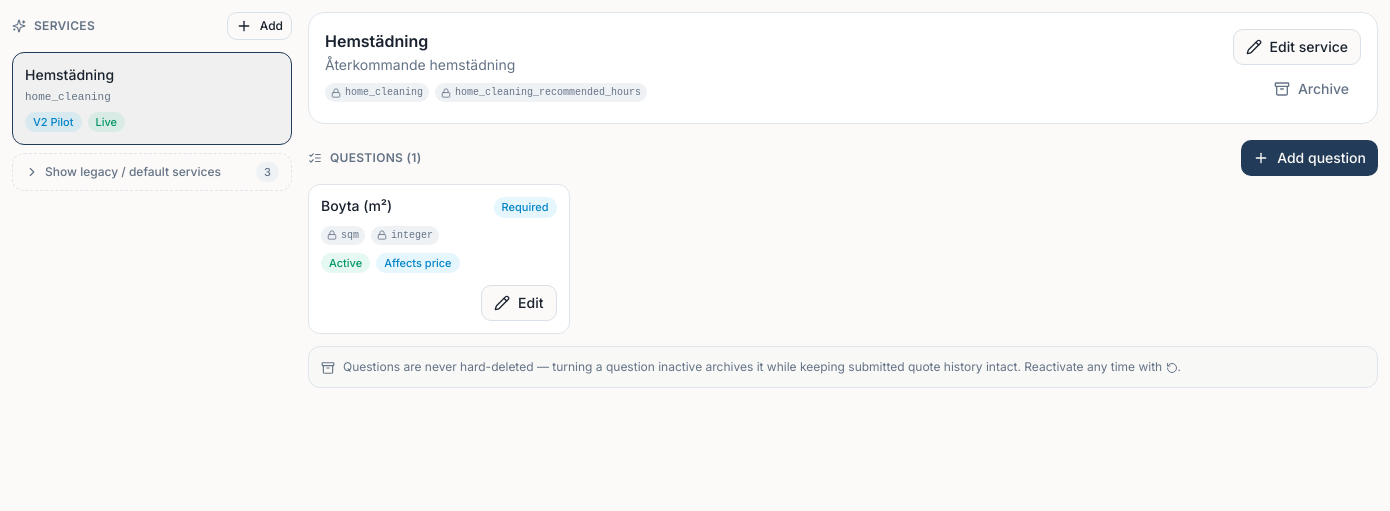
Test: ServicesFieldsEditor — GPM-2a legacy reveal + badges › reveals the seeded legacy services when the toggle is expanded
What coordinates should you click on to do the following:
click the button "Show legacy / default services 3"
I would click on:
 (152, 172)
Its box is [12, 153, 292, 191].
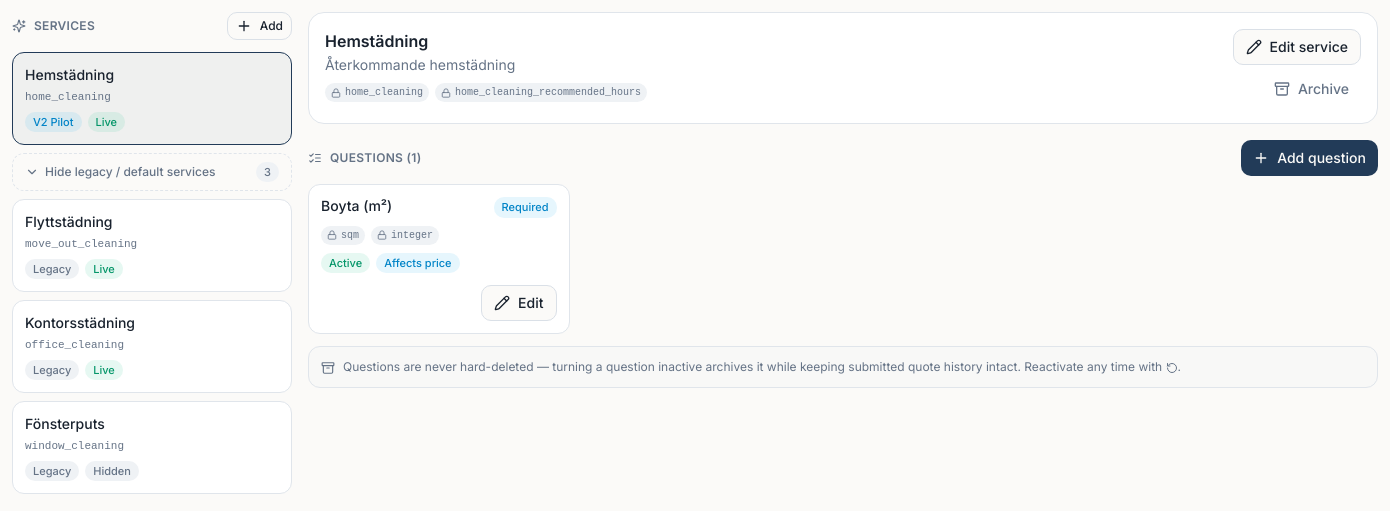
Check: the button "Flyttstädning move_out_cleaning Legacy Live" is shown, box [12, 199, 292, 292]
Check: the button "Kontorsstädning office_cleaning Legacy Live" is shown, box [12, 300, 292, 393]
Check: the button "Fönsterputs window_cleaning Legacy Hidden" is shown, box [12, 401, 292, 494]
